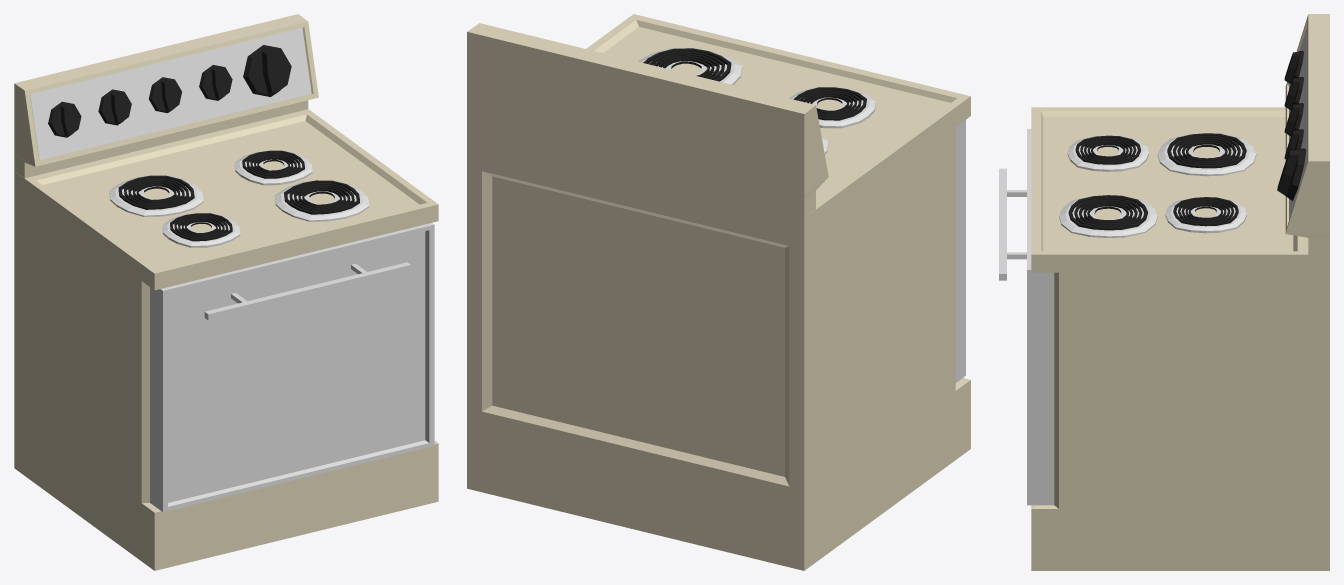
The model's file is 22 Stove.fbx.
3 renders of one model, left to right at view 1: azimuth 30°, elevation 25°; view 2: azimuth 150°, elevation 25°; view 3: azimuth 270°, elevation 25°, orthographic. The views are drawn at different scales.
Parts seen in each view (by area): view 1: Cube, Cube.005, Cube.004, Cube.003, Cube.002, Cube.001; view 2: Cube, Cube.004, Cube.005; view 3: Cube, Cube.005, Cube.004, Cube.003, Cube.002, Cube.001.
Part boxes in pixels (x1,y1,x2,y2): Cube: (14, 14, 438, 570); Cube.005: (109, 175, 369, 221); Cube.004: (162, 150, 312, 247); Cube.003: (48, 65, 232, 137); Cube.002: (204, 262, 410, 320); Cube.001: (243, 45, 291, 96); Cube: (467, 14, 970, 570); Cube.004: (789, 87, 875, 128); Cube.005: (638, 48, 828, 154); Cube: (1027, 14, 1329, 570); Cube.005: (1059, 133, 1256, 237); Cube.004: (1067, 135, 1246, 233); Cube.003: (1284, 50, 1303, 159); Cube.002: (999, 168, 1026, 280); Cube.001: (1277, 148, 1306, 200).
Size of the model in its own units: 200 by 259 by 190.
